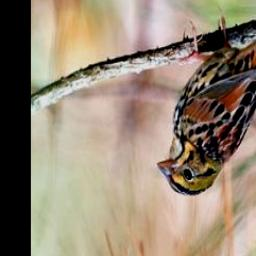Sparrow: (155, 0, 256, 198)
